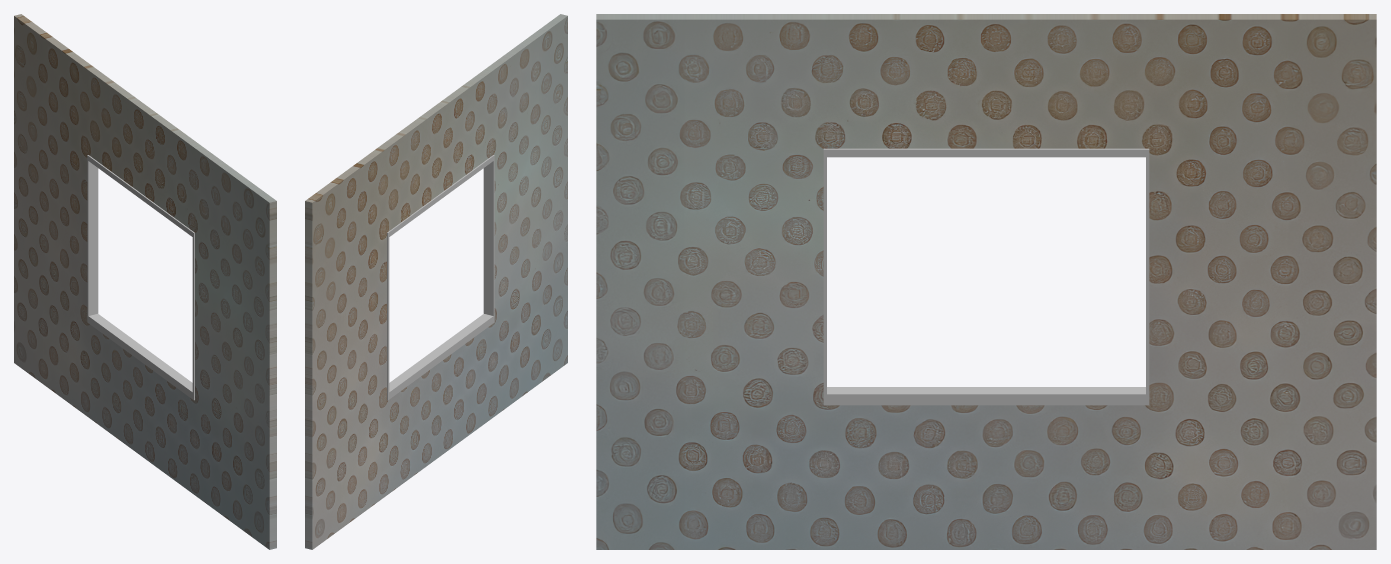
The model's file is SM_WallPaper01J.fbx.
3 views of the same model, side by side, from view 1: azimuth 30°, elevation 25°; view 2: azimuth 150°, elevation 25°; view 3: azimuth 270°, elevation 25° (orthographic). The views are drawn at different scales.
Parts seen in each view (by area): view 1: SM_WallPaper01J; view 2: SM_WallPaper01J; view 3: SM_WallPaper01J.
Boxes of the visible parts, x1,y1,x2,y2 form: SM_WallPaper01J: [14, 14, 276, 549]; SM_WallPaper01J: [305, 14, 567, 549]; SM_WallPaper01J: [596, 14, 1376, 549].
Size of the model in its own units: 8.99 by 409 by 306.
